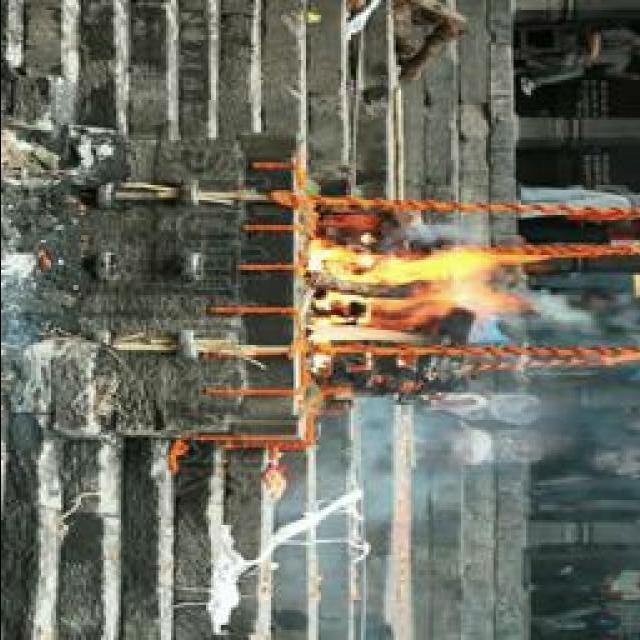Fire: (300, 244, 534, 346)
